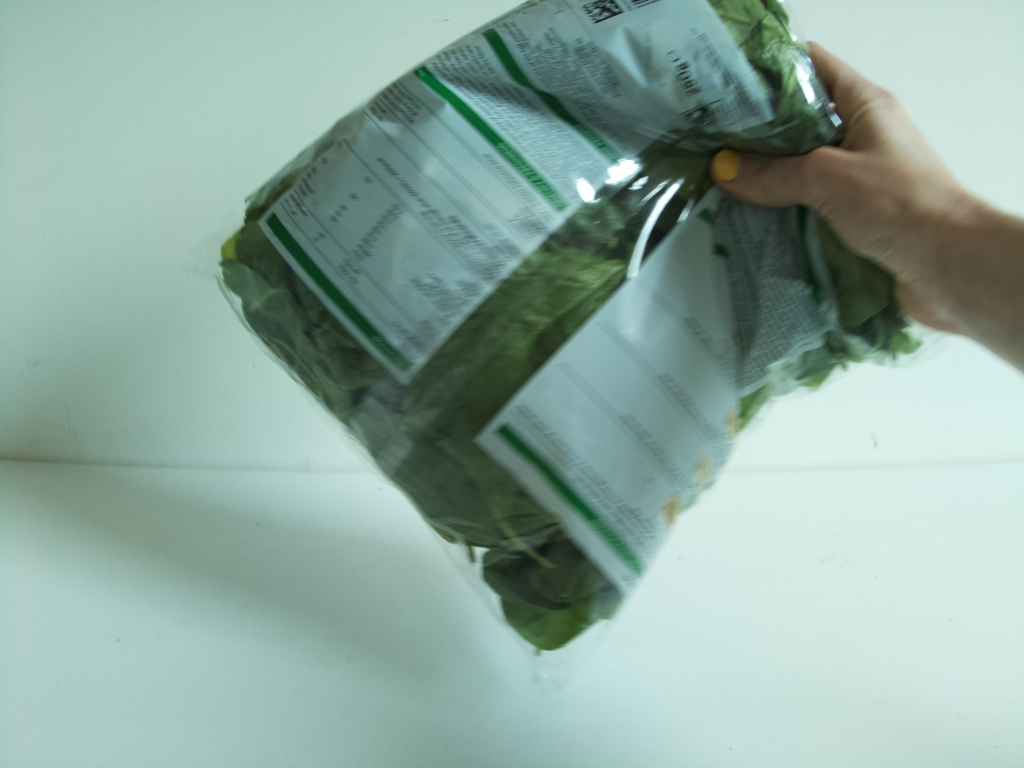salad: (217, 1, 942, 696)
